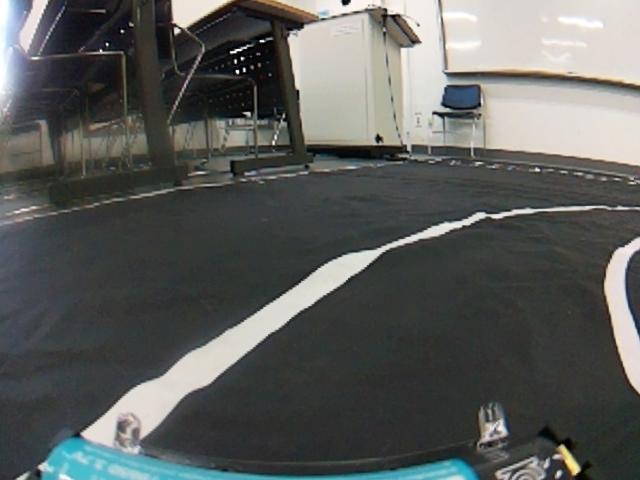right: (1, 187, 640, 480)
